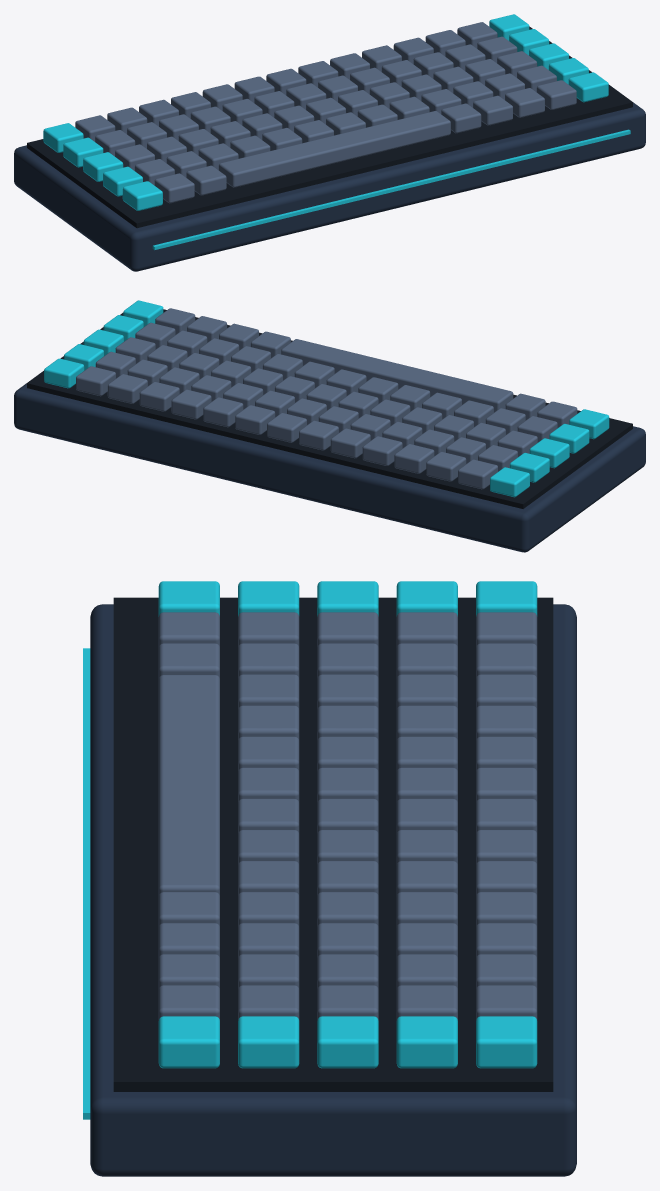
Rendered from keyboard.glb.
3 views of the same model, one above another, from view 1: azimuth 30°, elevation 25°; view 2: azimuth 150°, elevation 25°; view 3: azimuth 270°, elevation 25° (orthographic). The views are drawn at different scales.
Visible parts, largest first — view 1: SpinShop illustrative keyboard; view 2: SpinShop illustrative keyboard; view 3: SpinShop illustrative keyboard.
Part boxes in pixels (bbox=[...]): SpinShop illustrative keyboard: bbox=[14, 14, 645, 271]; SpinShop illustrative keyboard: bbox=[14, 300, 645, 552]; SpinShop illustrative keyboard: bbox=[83, 581, 576, 1176].
Size of the model in its own units: 0.33 by 0.0365 by 0.137.
